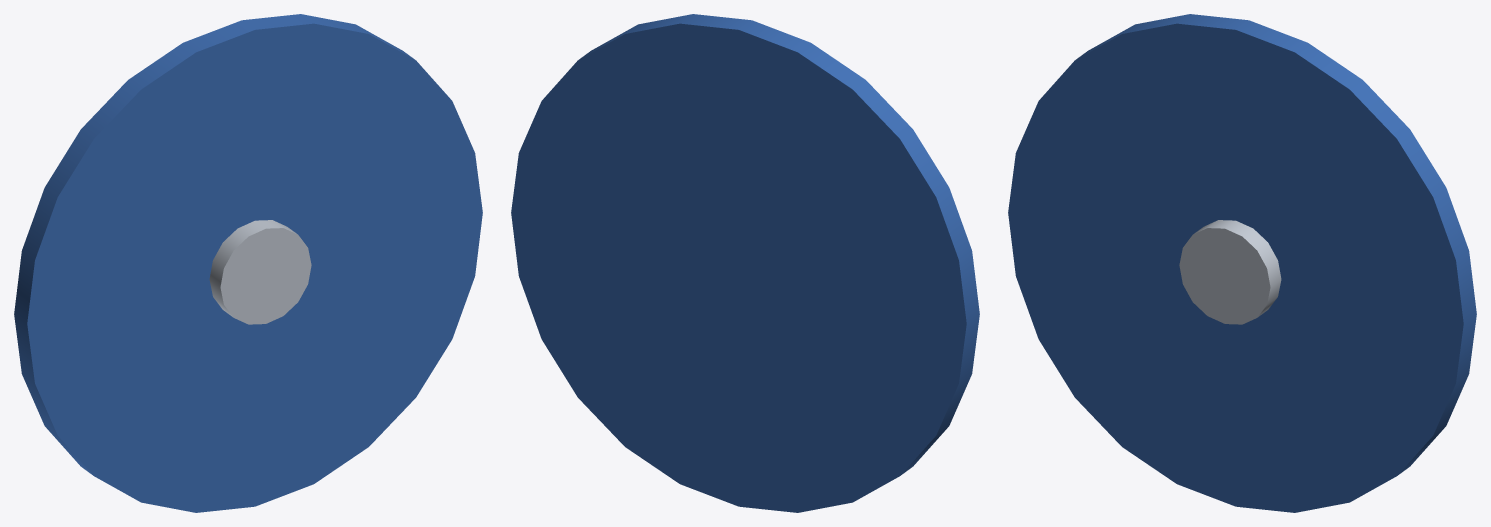
The model's file is shield.glb.
3 renders of one model, left to right at view 1: azimuth 30°, elevation 25°; view 2: azimuth 150°, elevation 25°; view 3: azimuth 330°, elevation 25°, orthographic.
Visible parts, largest first — view 1: cyl (×2); view 2: cyl; view 3: cyl (×2).
Part boxes in pixels (box(x1,y1,x2,y2)): cyl (×2): box(14, 14, 482, 512); cyl: box(511, 14, 979, 512); cyl (×2): box(1008, 14, 1476, 512).
Bounding box in the file's own units: 0.6 × 0.6 × 0.055.
